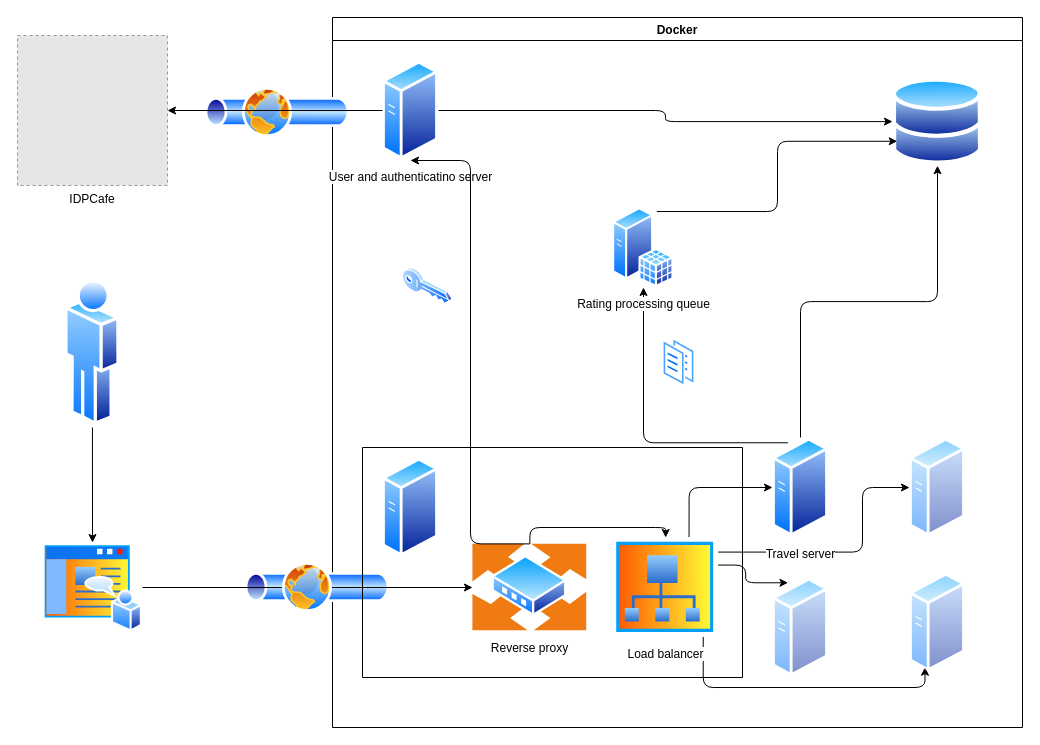
Image size: 1040x745. Some labels were removed from this diagram. Grey dashed boxes stand in for pictures. The box of each missing label's shape, as (x1, y1, x2, y2) in pixels:
Access keys: (402, 267, 452, 304)
Database: (892, 77, 982, 165)
Reviews: (662, 337, 695, 387)
Website: (42, 542, 142, 632)
